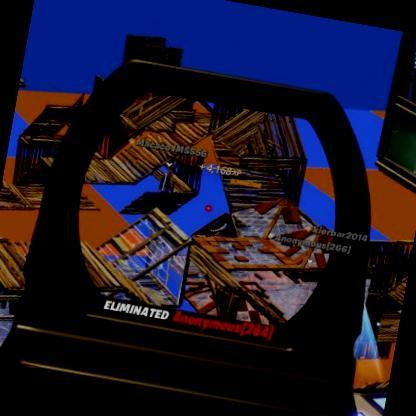person: (160, 168, 174, 190)
